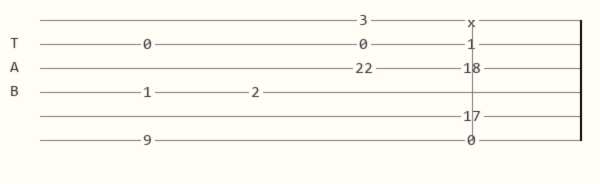0: (143, 37, 156, 51), (359, 37, 372, 51), (467, 133, 480, 147)
1: (143, 85, 156, 99), (467, 37, 480, 51)
17: (463, 109, 485, 123)
18: (463, 61, 485, 75)
2: (251, 85, 264, 99)
22: (355, 61, 377, 75)
3: (359, 13, 372, 27)
9: (143, 133, 156, 147)
x: (467, 15, 480, 26)
